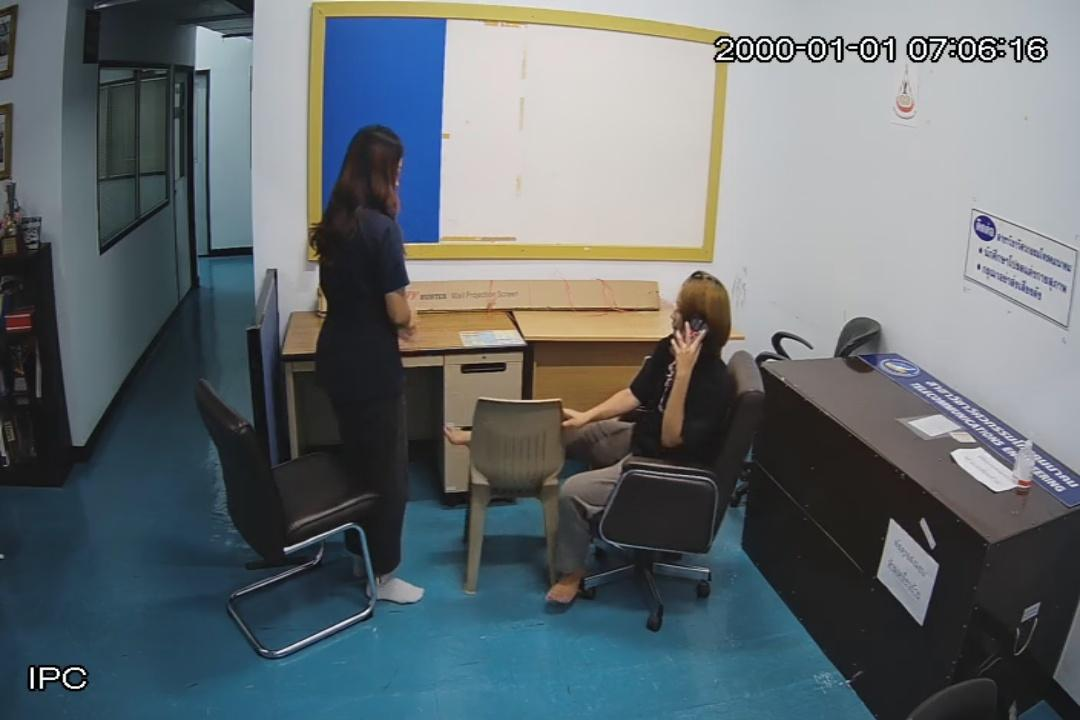normal: (551, 268, 735, 617), (317, 124, 437, 604)
